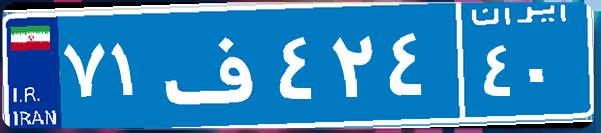0: (525, 38, 570, 115)
1: (110, 28, 158, 105)
2: (330, 28, 385, 110)
4: (385, 28, 445, 110), (273, 28, 330, 110), (475, 38, 525, 113)
7: (57, 26, 110, 107)
ف: (158, 15, 273, 115)
